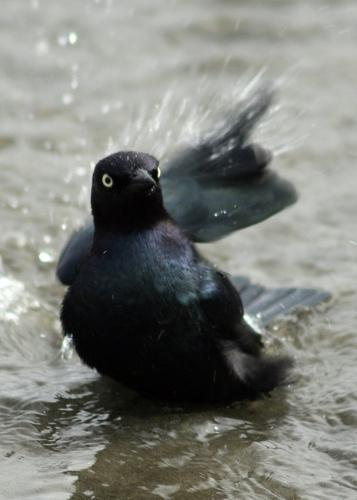009.Brewer_Blackbird: (58, 86, 329, 406)
